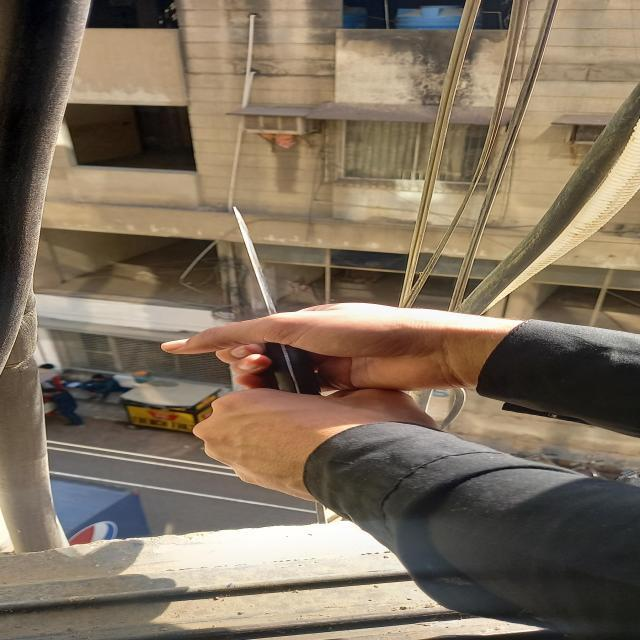faca: (232, 207, 317, 397)
